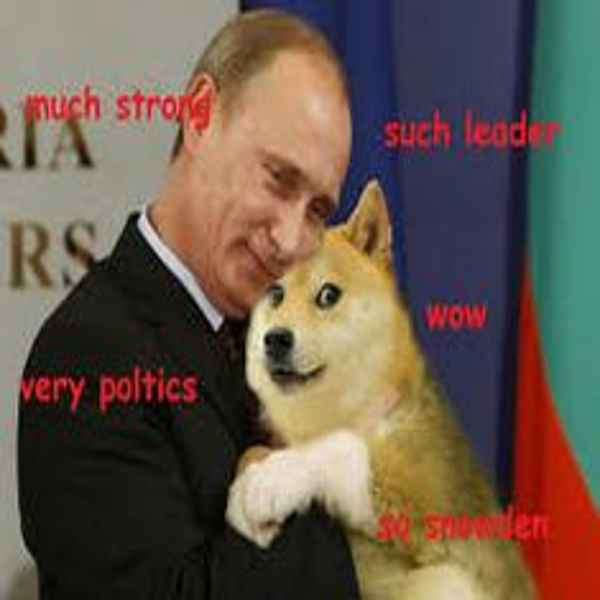doge: (232, 226, 412, 410)
